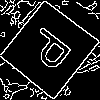P: (24, 24, 81, 79)
